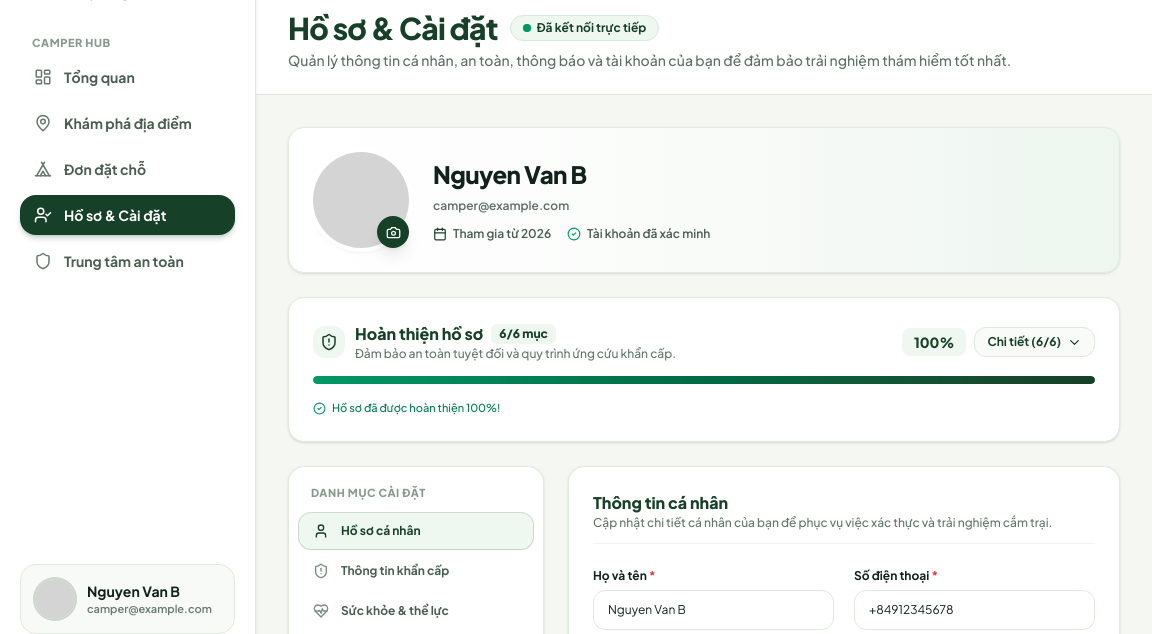
Test case: CamperProfilePage › validates mandatory phone number on personal profile form
Clear the field showing "+84912345678" at (974, 610), box x1=854 y1=590 x2=1095 y2=630
(page scrolled)
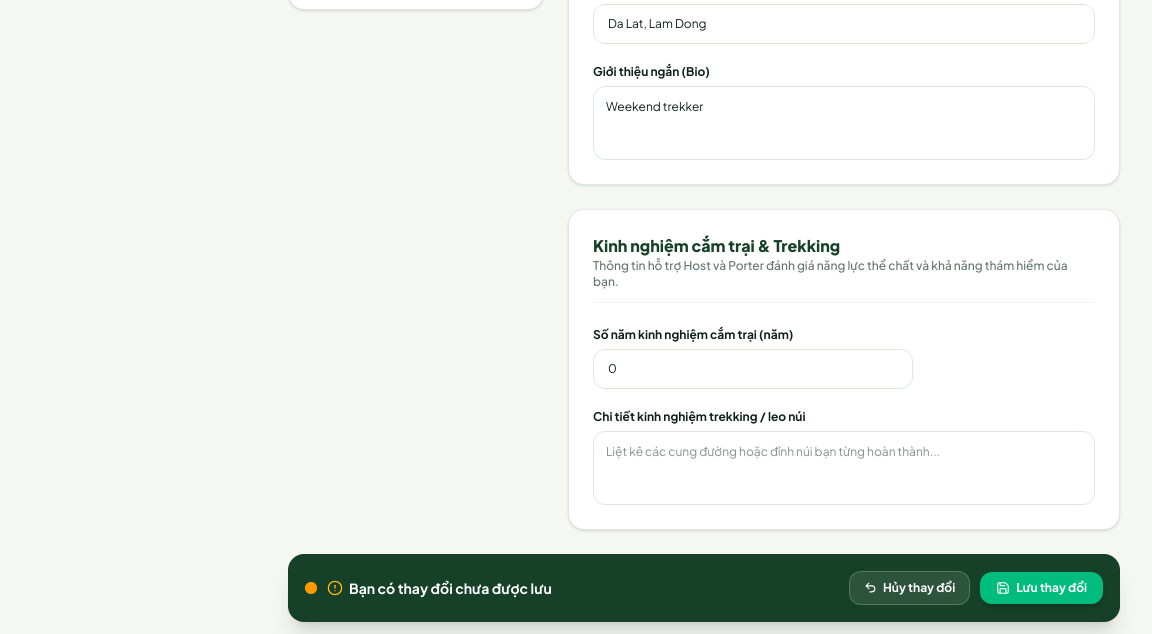
Click the button "Lưu thay đổi" at (1042, 588), box x1=980 y1=572 x2=1103 y2=604
(page scrolled)
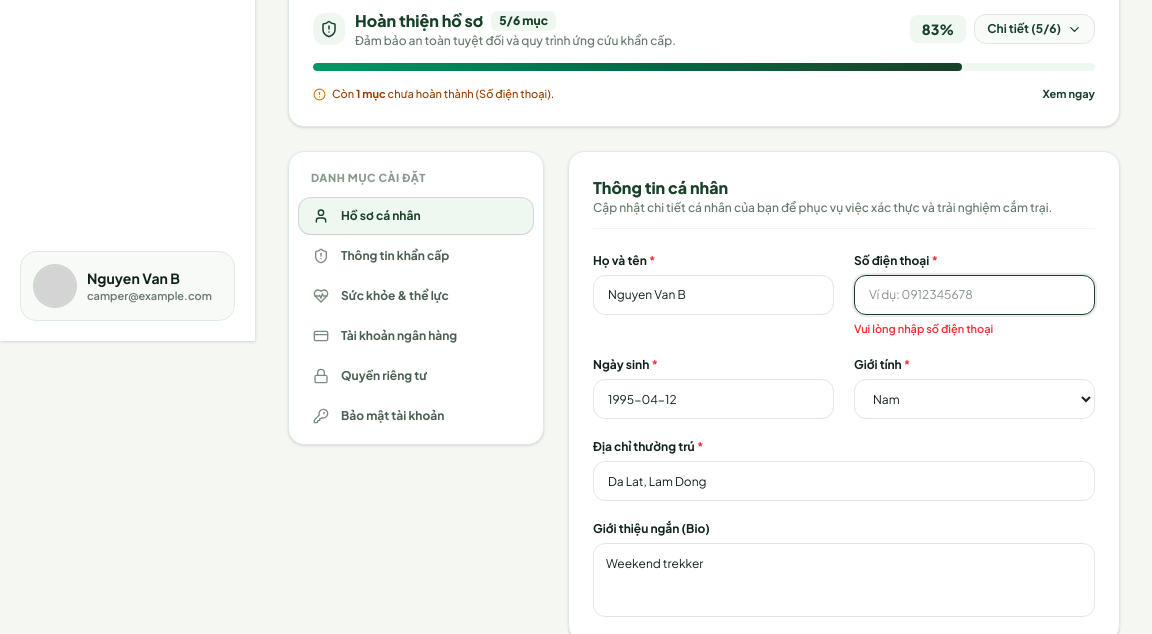
Check: the text "Vui lòng nhập số điện thoại" is shown, box x1=854 y1=322 x2=993 y2=335
